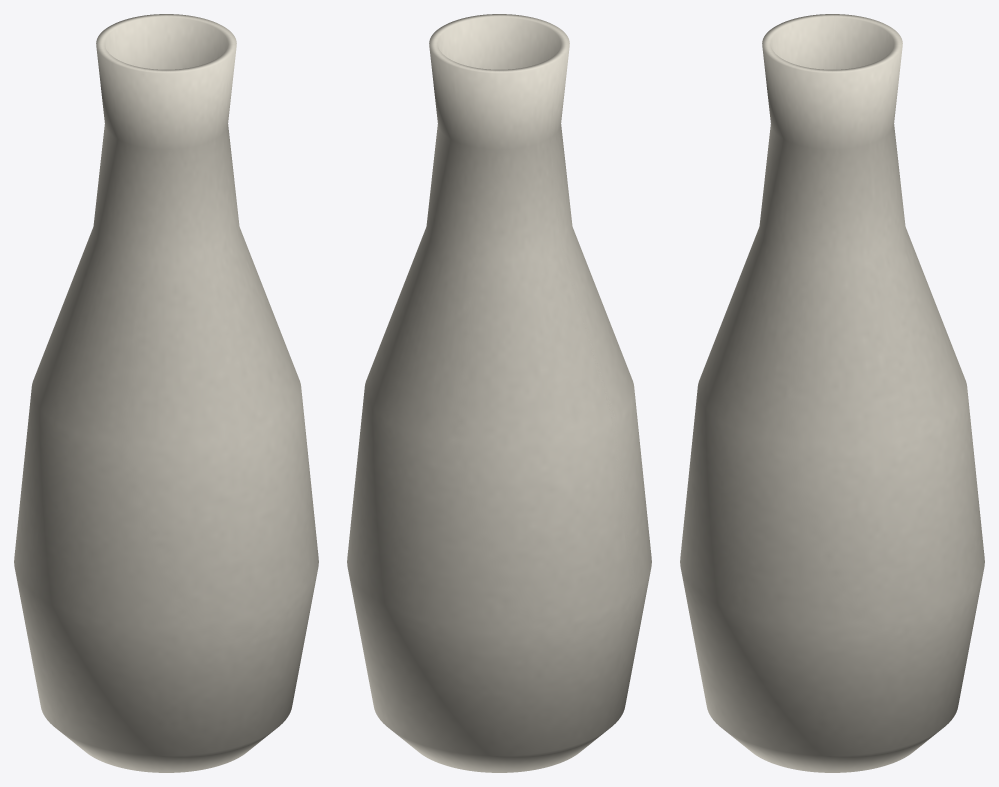
Rendered from intact.glb.
The picture shows the model from 3 angles, left to right: view 1: azimuth 30°, elevation 25°; view 2: azimuth 150°, elevation 25°; view 3: azimuth 270°, elevation 25°; orthographic projection.
Parts seen in each view (by area): view 1: vase-component-000-ivory; view 2: vase-component-000-ivory; view 3: vase-component-000-ivory.
Boxes of the visible parts, x1=… form: vase-component-000-ivory: x1=14, y1=14, x2=318, y2=772; vase-component-000-ivory: x1=347, y1=14, x2=651, y2=772; vase-component-000-ivory: x1=680, y1=14, x2=984, y2=772.
Size of the model in its own units: 0.104 by 0.26 by 0.104.
Materials: 1 (1 with a texture image).
